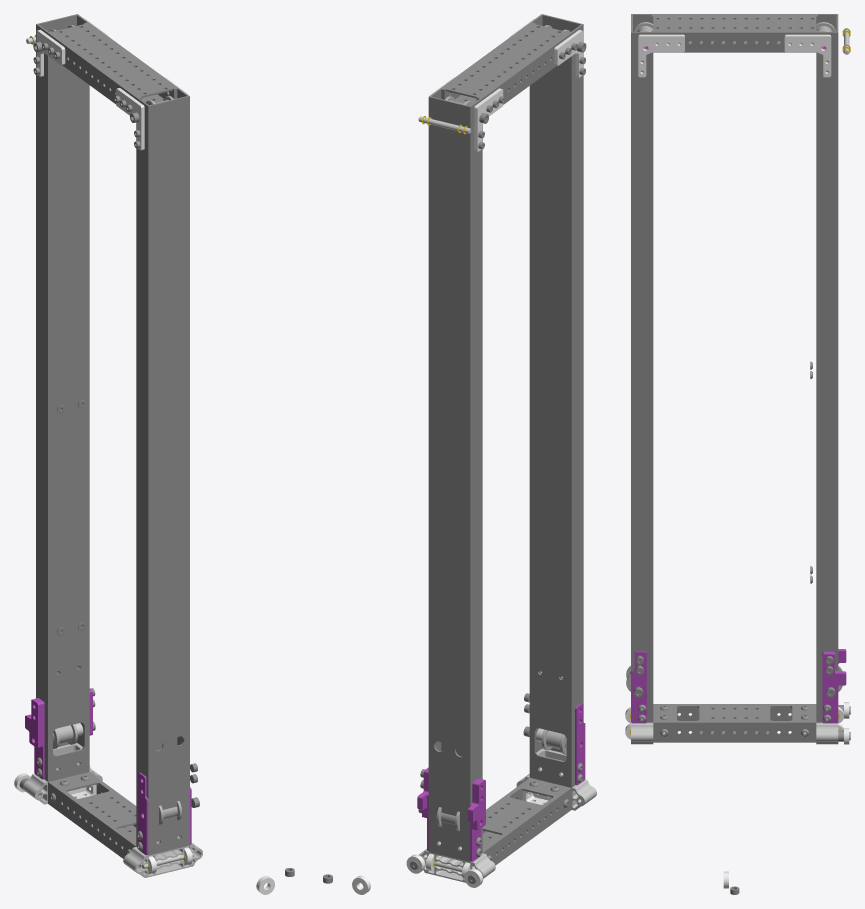
3 renders of one model, left to right at view 1: azimuth 30°, elevation 25°; view 2: azimuth 150°, elevation 25°; view 3: azimuth 270°, elevation 25°, orthographic. The views are drawn at different scales.
Parts seen in each view (by area): view 1: 0200-Tube-07, 0200-Tube-10, 0200-Tube-11, 0200-Tube-08, TR_BearingBlockV2.004, TR_BearingBlockV2.008, 0200-Plate-02.004, 0200-Plate-03.015, 0200-Plate-15.003, 0200-Plate-15.002; view 2: 0200-Tube-10, 0200-Tube-07, 0200-Tube-11, 0200-Tube-08, TR_BearingBlockV2.008, TR_BearingBlockV2.004, 0200-Plate-02.004, 0200-Plate-03.015, 0200-Plate-15.002, 0200-Plate-15.003; view 3: 0200-Tube-10, 0200-Tube-07, 0200-Tube-08, 0200-Tube-11, 0200-Plate-15.001, 0200-Plate-15, 0200-Plate-02.003, 0200-Plate-03.014, TR_BearingBlockV2.004, TR_BearingBlockV2.008.
Boxes of the visible parts, x1,y1,x2,y2 form: 0200-Tube-07: (136,87,189,855); 0200-Tube-10: (36,14,89,781); 0200-Tube-11: (48,23,177,103); 0200-Tube-08: (48,772,136,858); TR_BearingBlockV2.004: (123,835,202,877); TR_BearingBlockV2.008: (23,743,102,804); 0200-Plate-02.004: (138,772,148,855); 0200-Plate-03.015: (25,698,42,748); 0200-Plate-15.003: (116,88,144,150); 0200-Plate-15.002: (36,29,65,76); 0200-Tube-10: (428,88,482,861); 0200-Tube-07: (529,14,583,787); 0200-Tube-11: (441,23,571,104); 0200-Tube-08: (482,778,571,865); TR_BearingBlockV2.008: (418,841,495,882); TR_BearingBlockV2.004: (516,748,596,810); 0200-Plate-02.004: (575,703,585,785); 0200-Plate-03.015: (467,778,485,830); 0200-Plate-15.002: (474,88,503,151); 0200-Plate-15.003: (554,30,583,77); 0200-Tube-10: (816,14,838,722); 0200-Tube-07: (631,14,653,722); 0200-Tube-08: (653,704,816,742); 0200-Tube-11: (653,14,816,52); 0200-Plate-15.001: (784,34,831,77); 0200-Plate-15: (638,34,684,77); 0200-Plate-02.003: (631,651,646,723); 0200-Plate-03.014: (822,652,846,695); TR_BearingBlockV2.004: (631,708,653,744); TR_BearingBlockV2.008: (816,708,838,744).
Size of the model in its own units: 0.2616 by 0.9945 by 0.2544.
